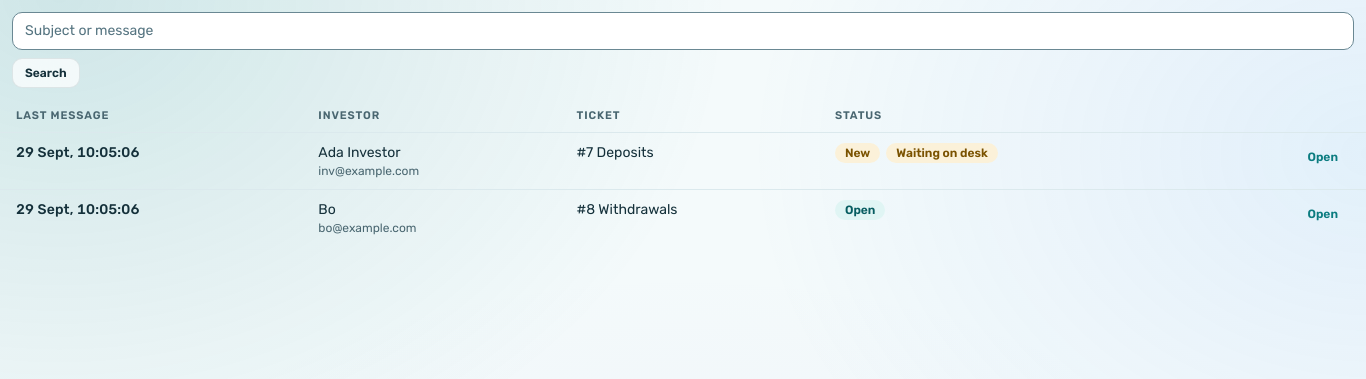
the open view hides closed tickets and marks the ones waiting on the desk
The width and height of the screenshot is (1366, 379).
Expected: the text "#7 Deposits" is shown, [560,132,819,189]
Expected: the text "#8 Withdrawals" is shown, [560,189,819,246]
Step 1. Type "wire" into the field named "Search tickets" → (683, 31), box [12,12,1354,50]
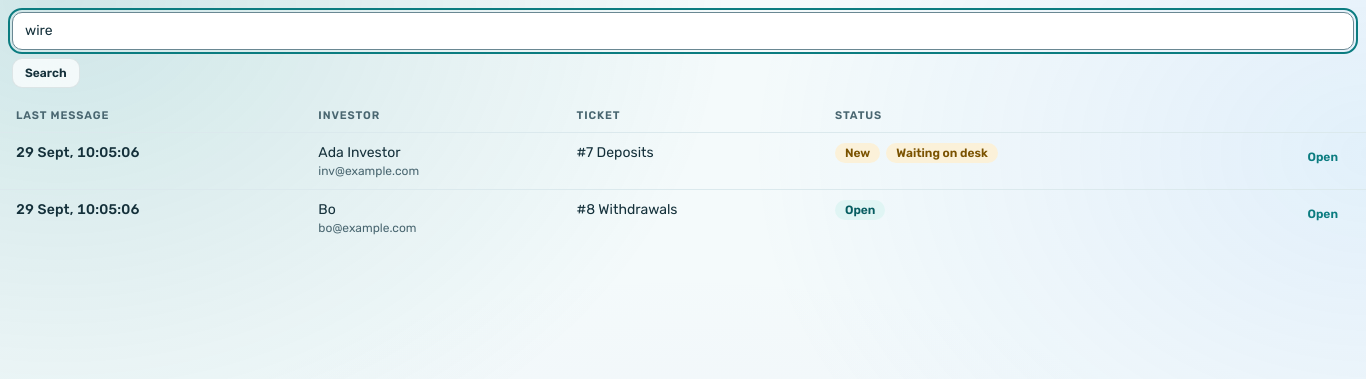
Step 2. Click the button "Search" → (46, 73), box [12,58,80,88]
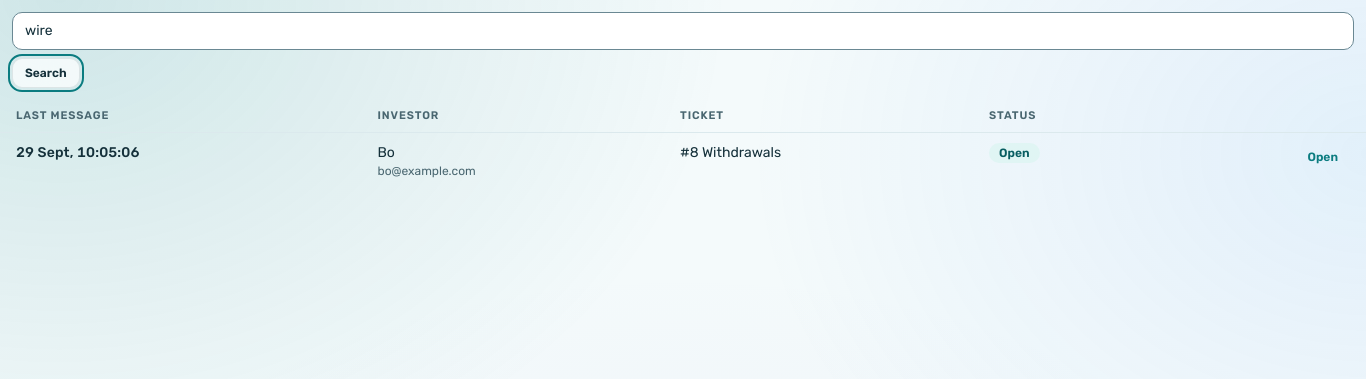
Expected: the text "#7 Deposits" is gone
